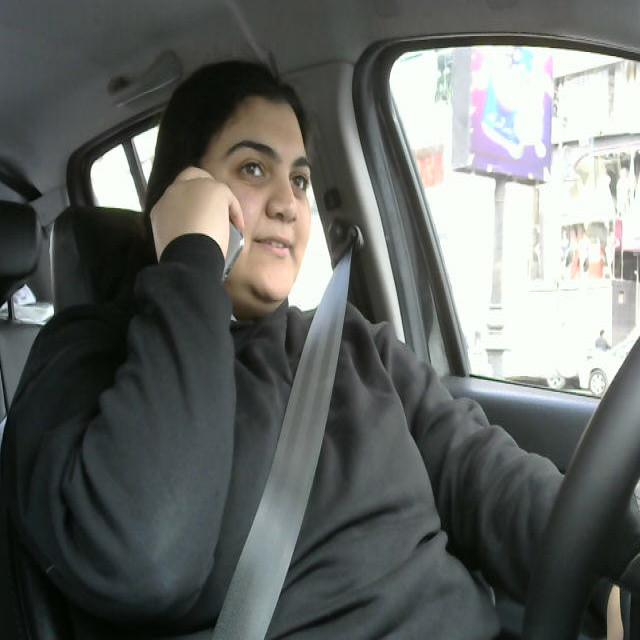mobile use: (148, 162, 250, 277)
